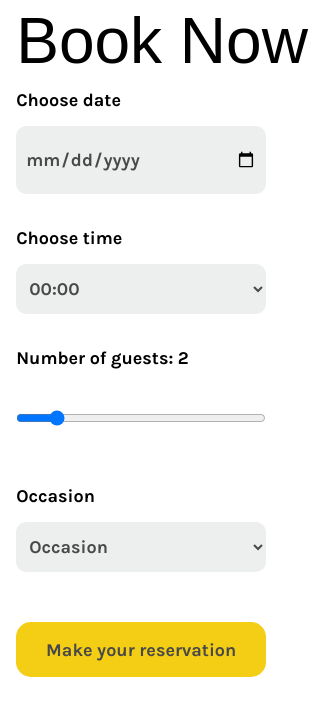
Scenario: Form input validation
Step 1. Select "Birthday" in the dropdown labelled "Occasion" → (141, 547), box [16,522,266,572]
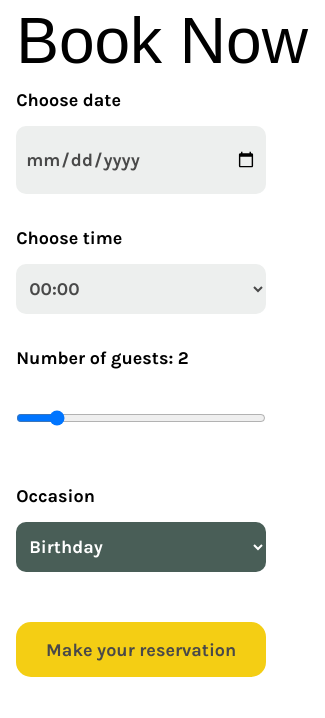
Step 2. Select "Occasion" in the dropdown labelled "Occasion" → (141, 547), box [16,522,266,572]
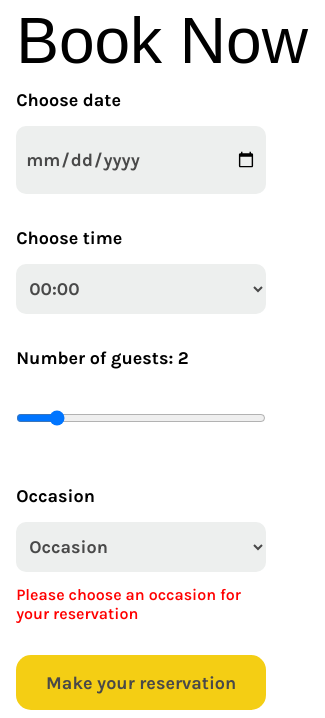
Result: the text "Please choose an occasion for your reservation" is shown at [16,585,266,623]
